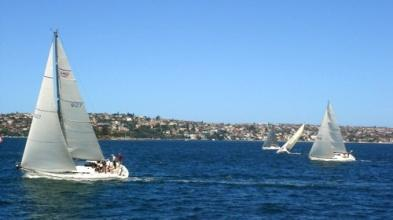fanchuan: (9, 28, 144, 180), (304, 101, 362, 165), (276, 124, 308, 156), (262, 120, 282, 155)
